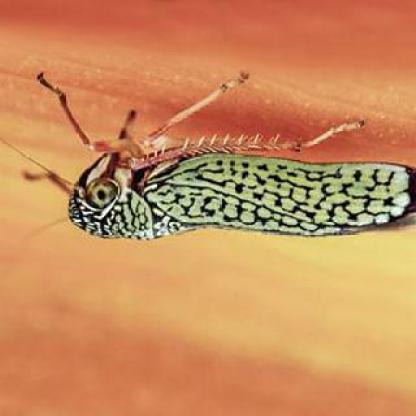green-leafhopper: (61, 128, 416, 249)
